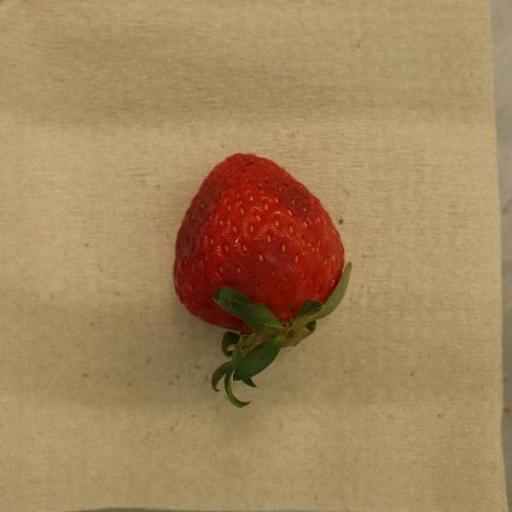Strawberry: (172, 153, 352, 410)
